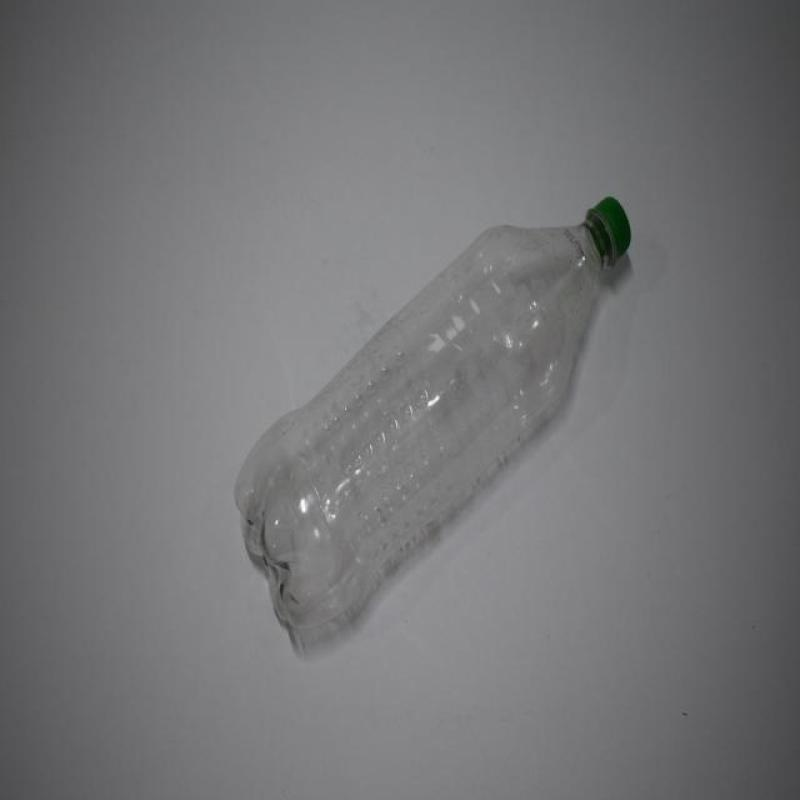botella: (236, 194, 630, 645)
